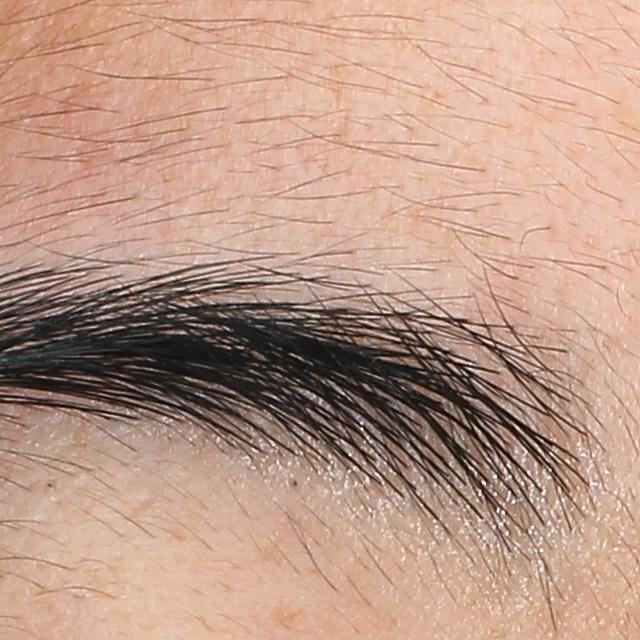melasma: (266, 602, 310, 630)
